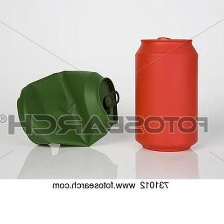can: (10, 65, 122, 154), (131, 33, 203, 153)
